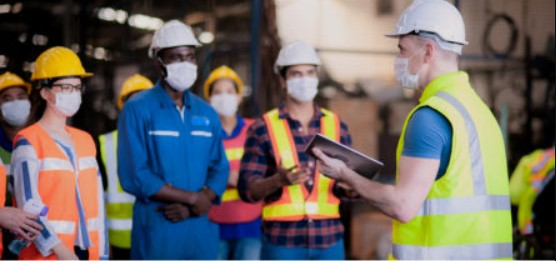worker: (385, 1, 513, 261), (19, 48, 101, 261)
